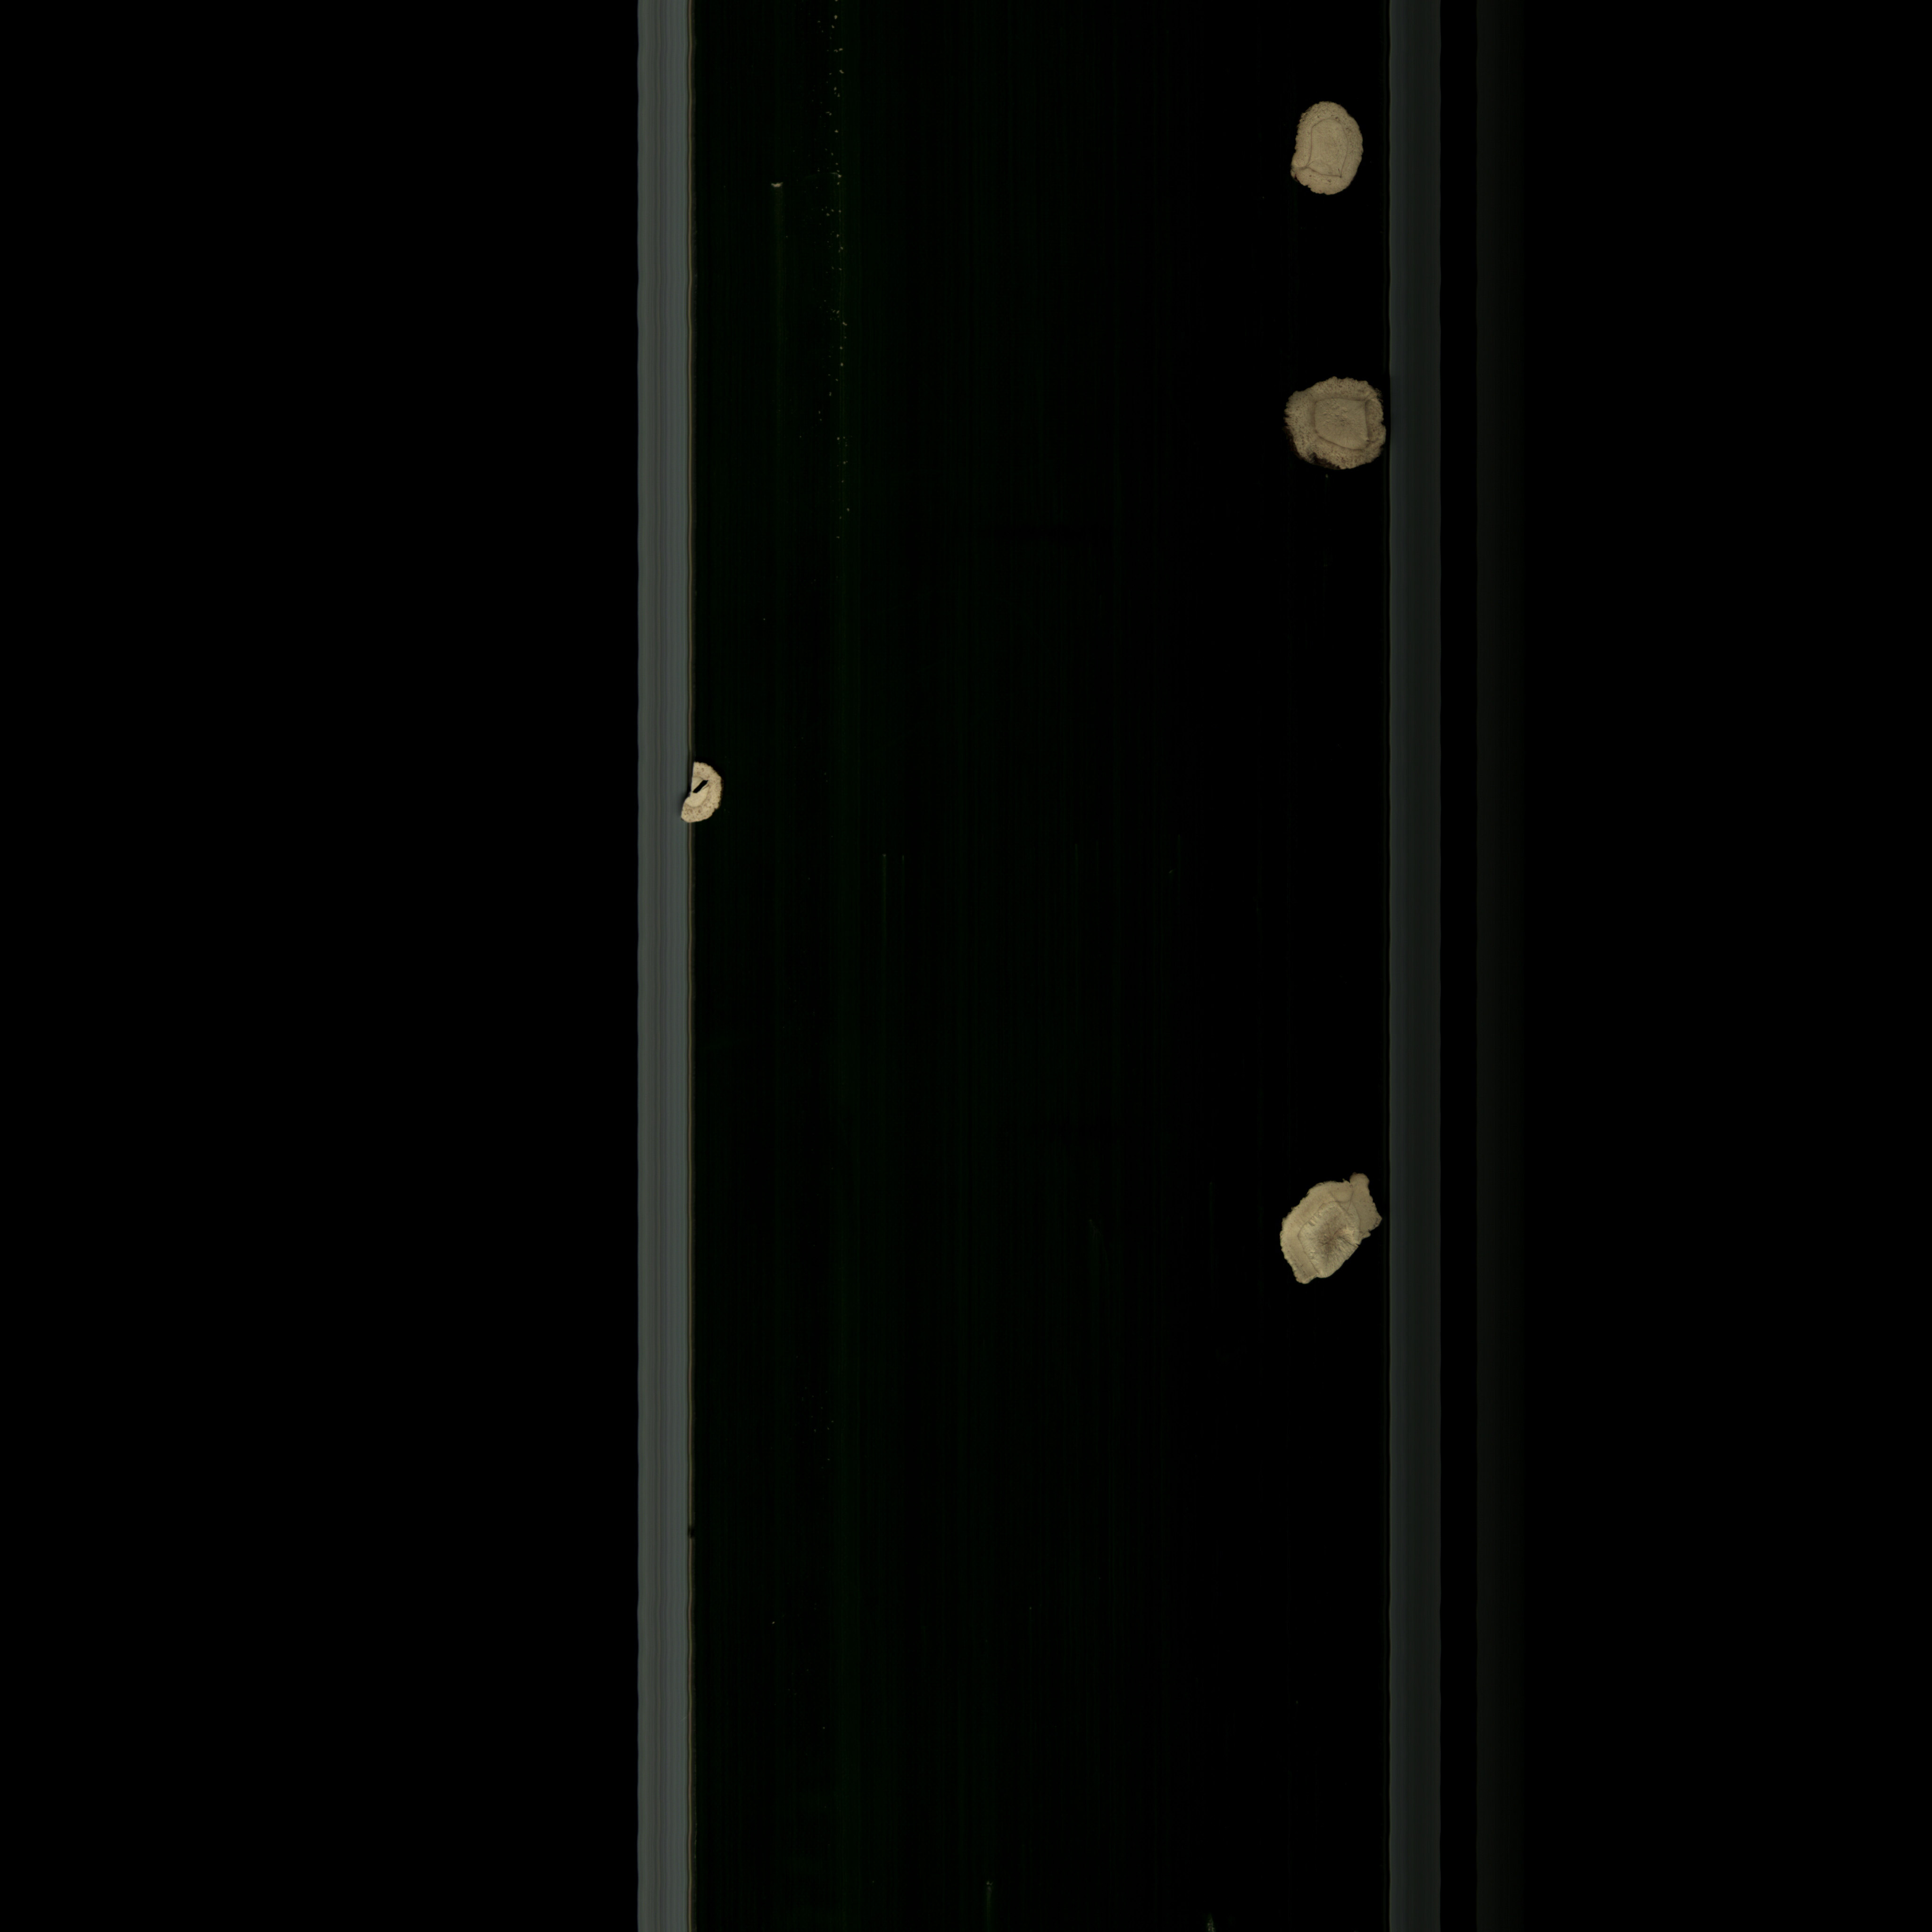debris: (1267, 1169, 1394, 1290)
hole: (678, 757, 732, 832)
moldy: (1270, 368, 1392, 479), (1288, 92, 1368, 209)
